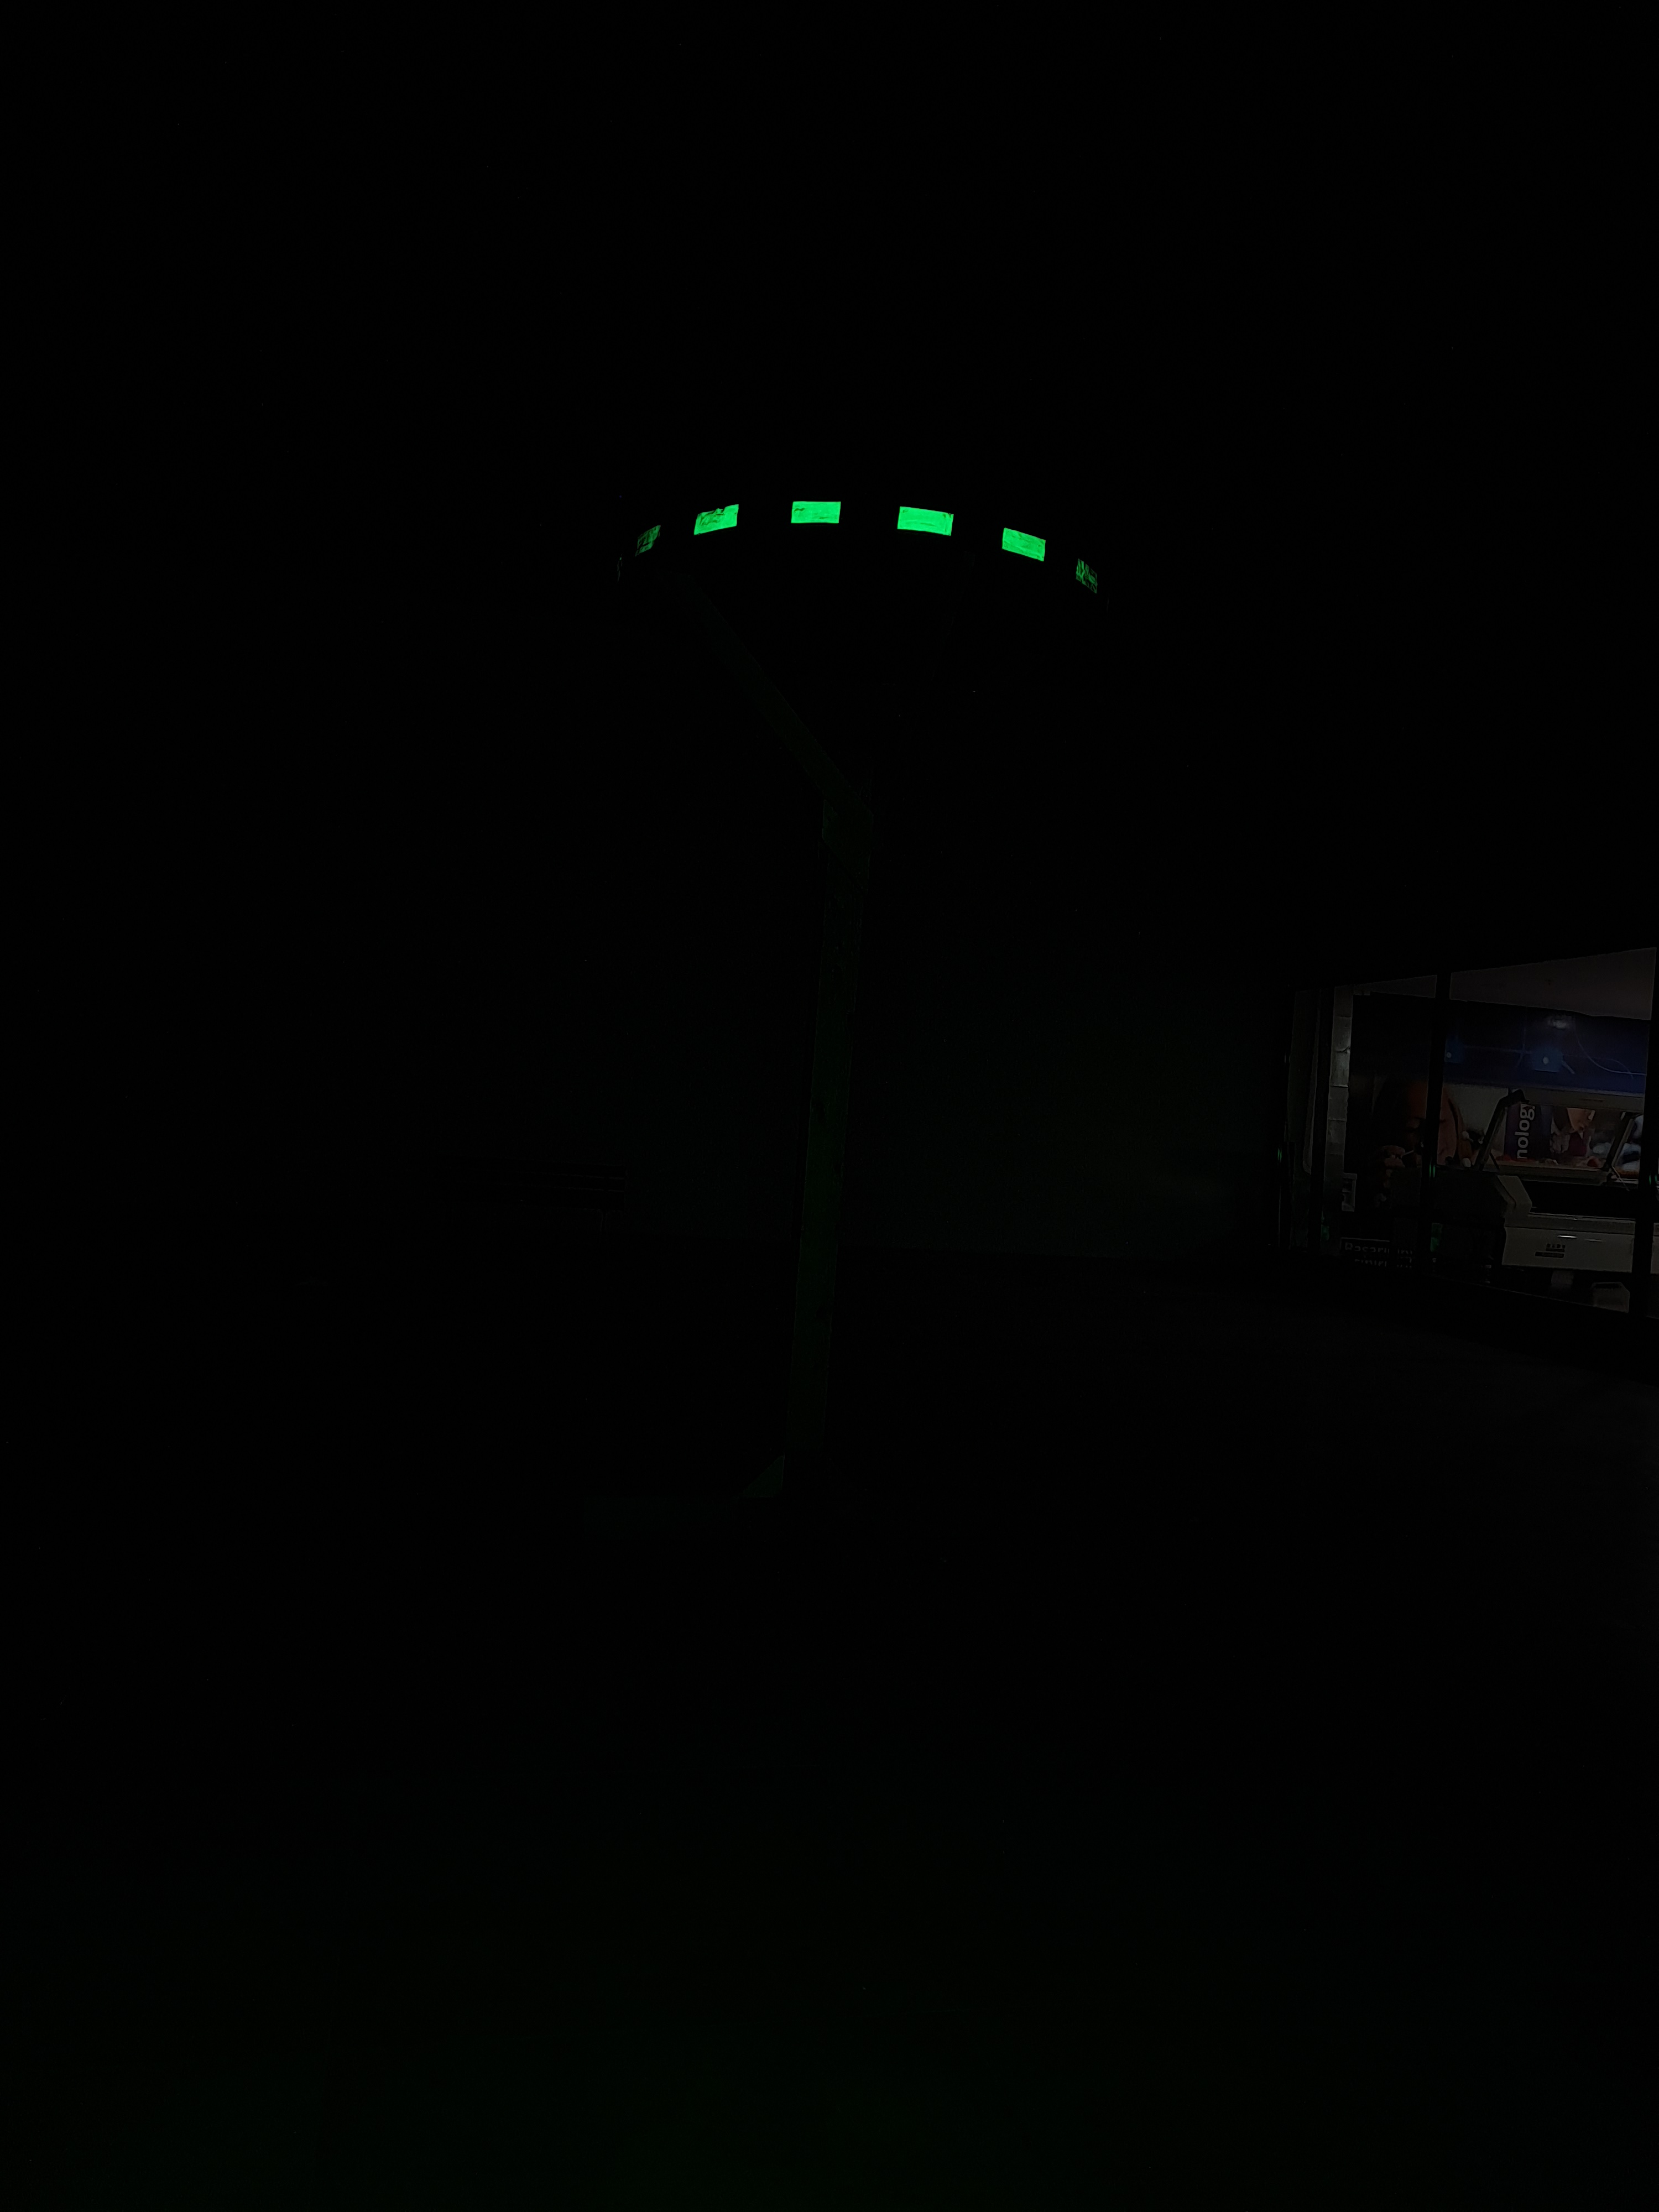hoop: (605, 479, 1117, 622)
